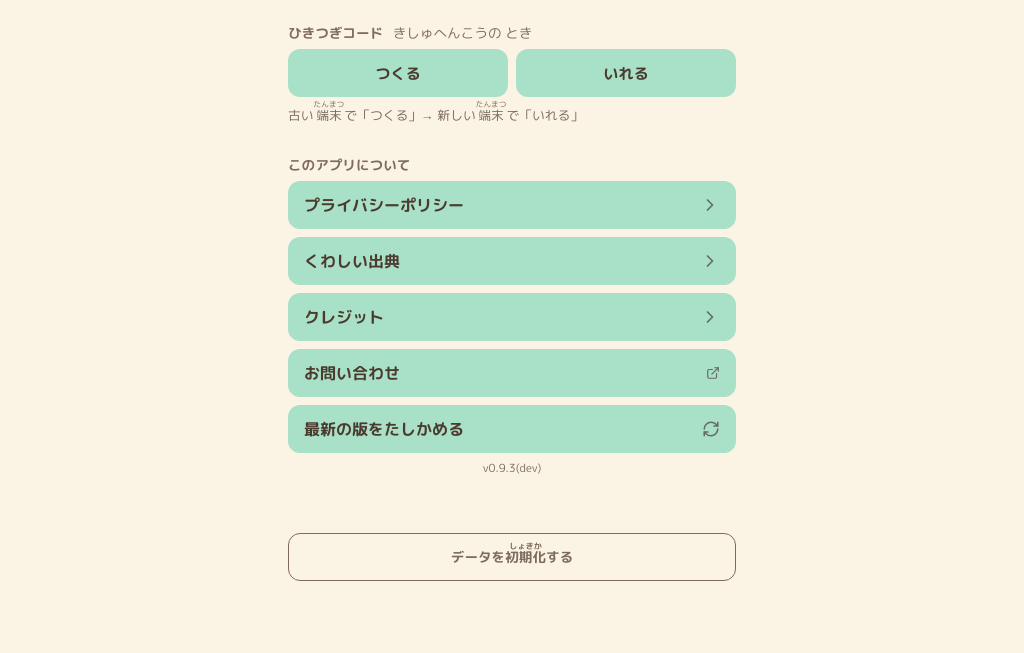
設定画面: データの初期化 › 確認で「いいえ」を押すと、何も消さずにもとへ戻る
This screenshot has width=1024, height=653.
(page scrolled)
Click the button "データを 初期化 しょきか する".
click(512, 557)  # box 288,533 -> 736,581
(page scrolled)
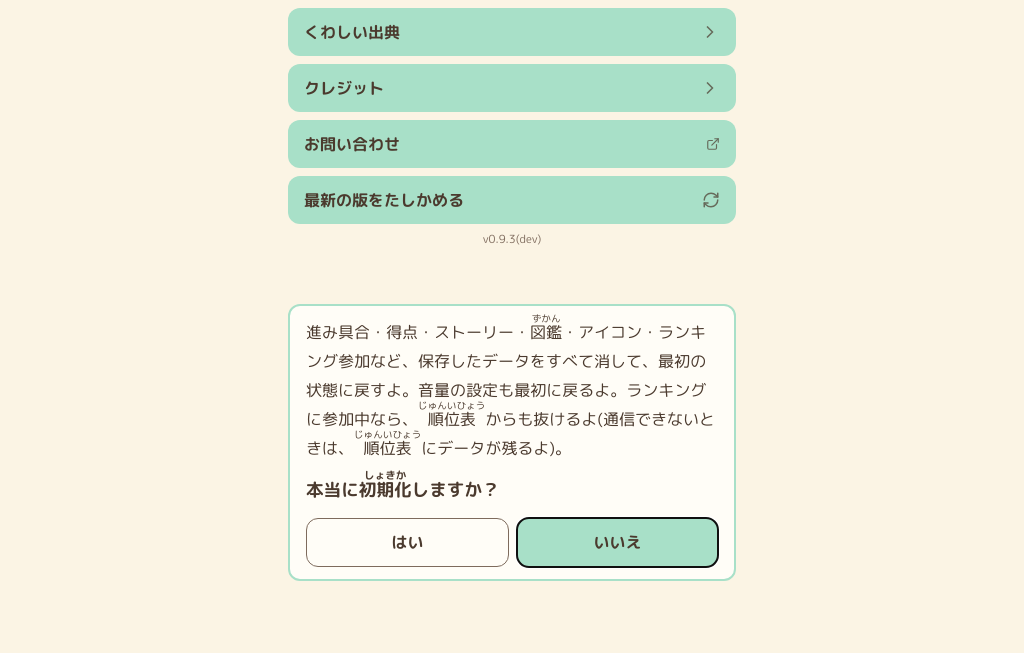
Click the button "いいえ".
click(618, 542)  # box 517,518 -> 718,567
(page scrolled)
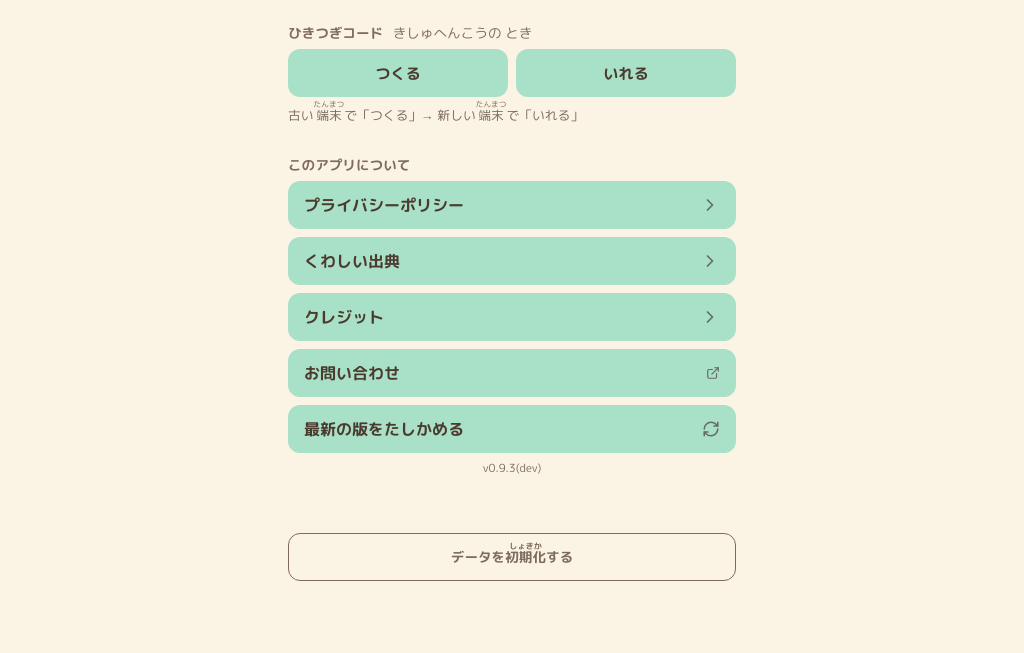
Expected: the dialog is gone
